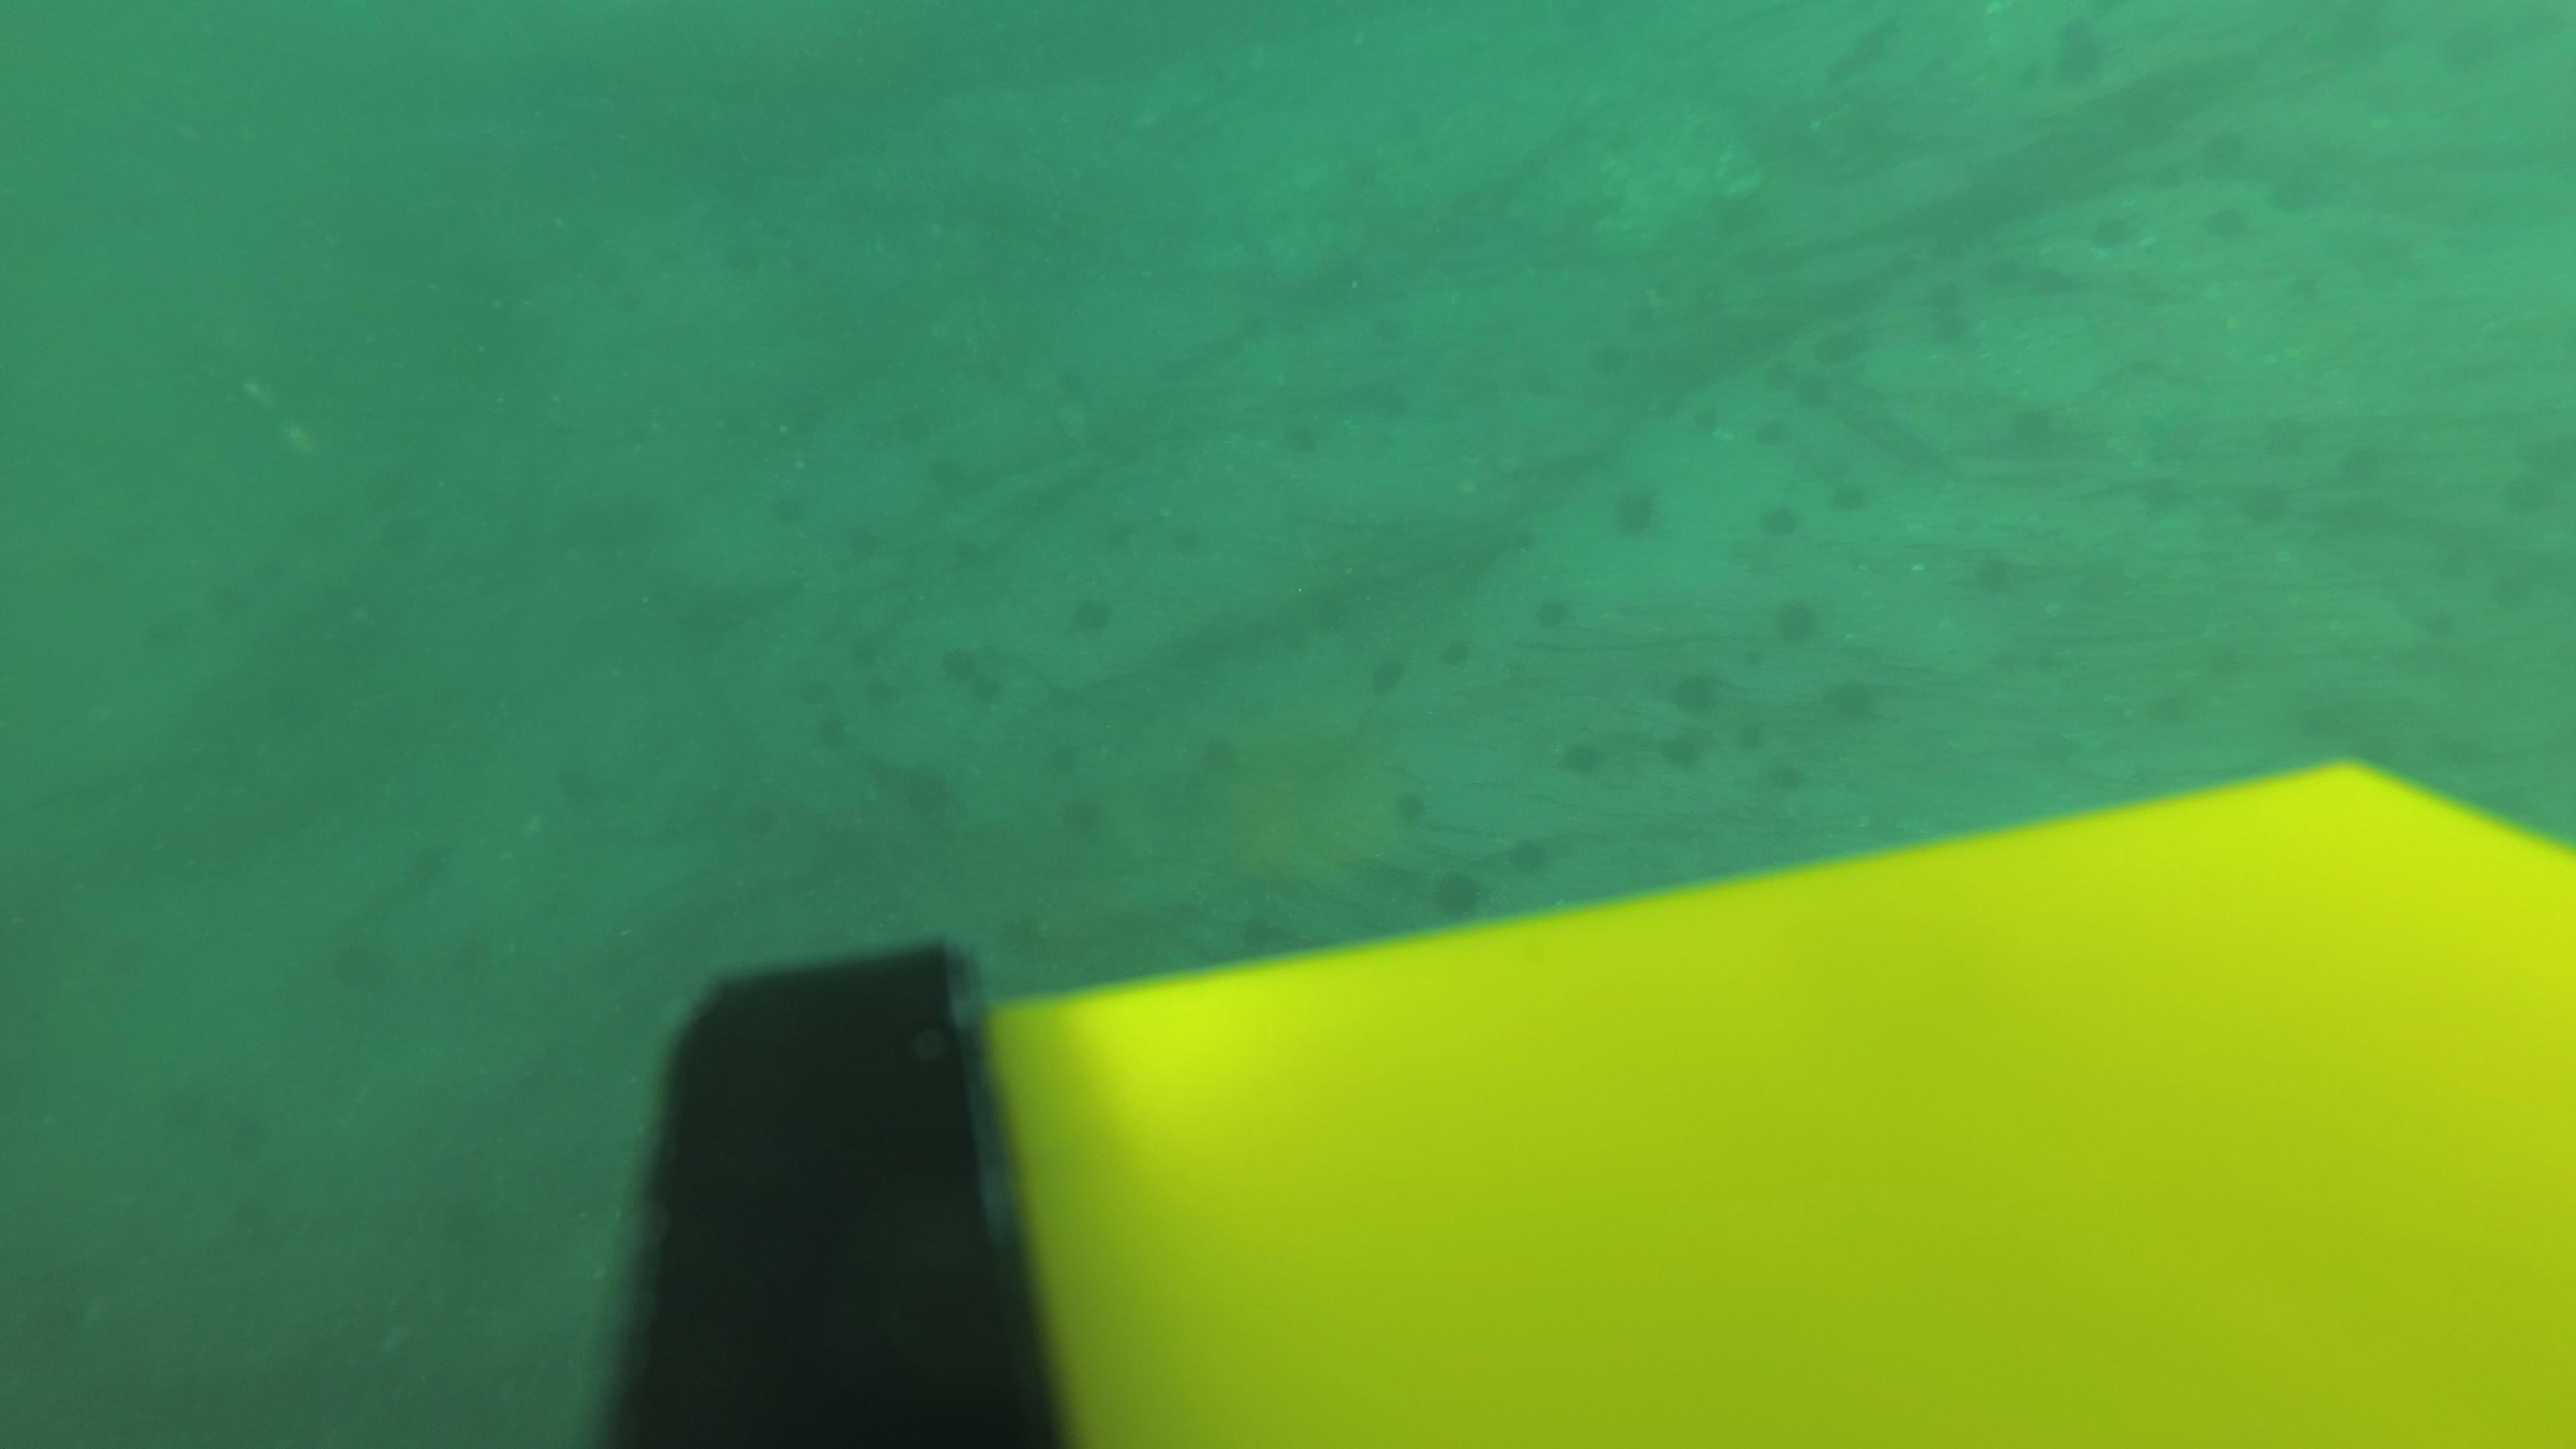echinus: (318, 922, 400, 1000), (2043, 16, 2116, 90), (888, 755, 962, 826), (1999, 396, 2072, 464), (938, 639, 1007, 708), (1424, 862, 1493, 925), (2231, 474, 2296, 533), (1606, 478, 1665, 541), (1822, 672, 1884, 731), (1964, 545, 2026, 603), (846, 665, 904, 724), (1226, 897, 1284, 955), (1378, 780, 1437, 839), (1743, 736, 1801, 794), (1189, 717, 1247, 775), (1819, 467, 1877, 525), (2151, 678, 2210, 736), (1054, 789, 1113, 846), (996, 897, 1054, 954), (1030, 729, 1088, 786), (796, 701, 855, 757), (782, 669, 840, 725), (1727, 706, 1785, 763), (1424, 623, 1483, 679), (2082, 203, 2144, 257), (1491, 817, 1548, 874), (1667, 663, 1723, 718), (2199, 196, 2256, 248), (1771, 594, 1824, 648), (1677, 398, 1732, 449), (1608, 304, 1663, 356), (1902, 269, 1957, 320), (1362, 379, 1417, 430), (1352, 295, 1407, 347), (1269, 412, 1323, 464), (602, 281, 656, 333), (430, 918, 485, 970), (380, 513, 435, 564), (1065, 587, 1118, 639), (1748, 410, 1801, 462), (1748, 352, 1801, 403), (1787, 370, 1840, 421), (1806, 324, 1859, 375), (1582, 333, 1635, 384), (1161, 513, 1214, 564), (1097, 513, 1150, 564), (934, 527, 987, 579), (833, 518, 886, 570), (761, 478, 814, 529), (1056, 361, 1109, 412), (711, 226, 764, 278), (639, 218, 692, 269), (587, 235, 640, 287), (395, 840, 448, 892), (426, 1201, 479, 1253), (550, 768, 603, 819), (356, 464, 409, 515), (915, 448, 970, 497), (281, 502, 336, 552), (1555, 731, 1606, 782), (1362, 646, 1412, 699), (1306, 591, 1359, 640), (885, 403, 938, 453), (1658, 727, 1709, 777), (1755, 497, 1805, 545), (1927, 299, 1974, 347), (1530, 589, 1576, 637)
